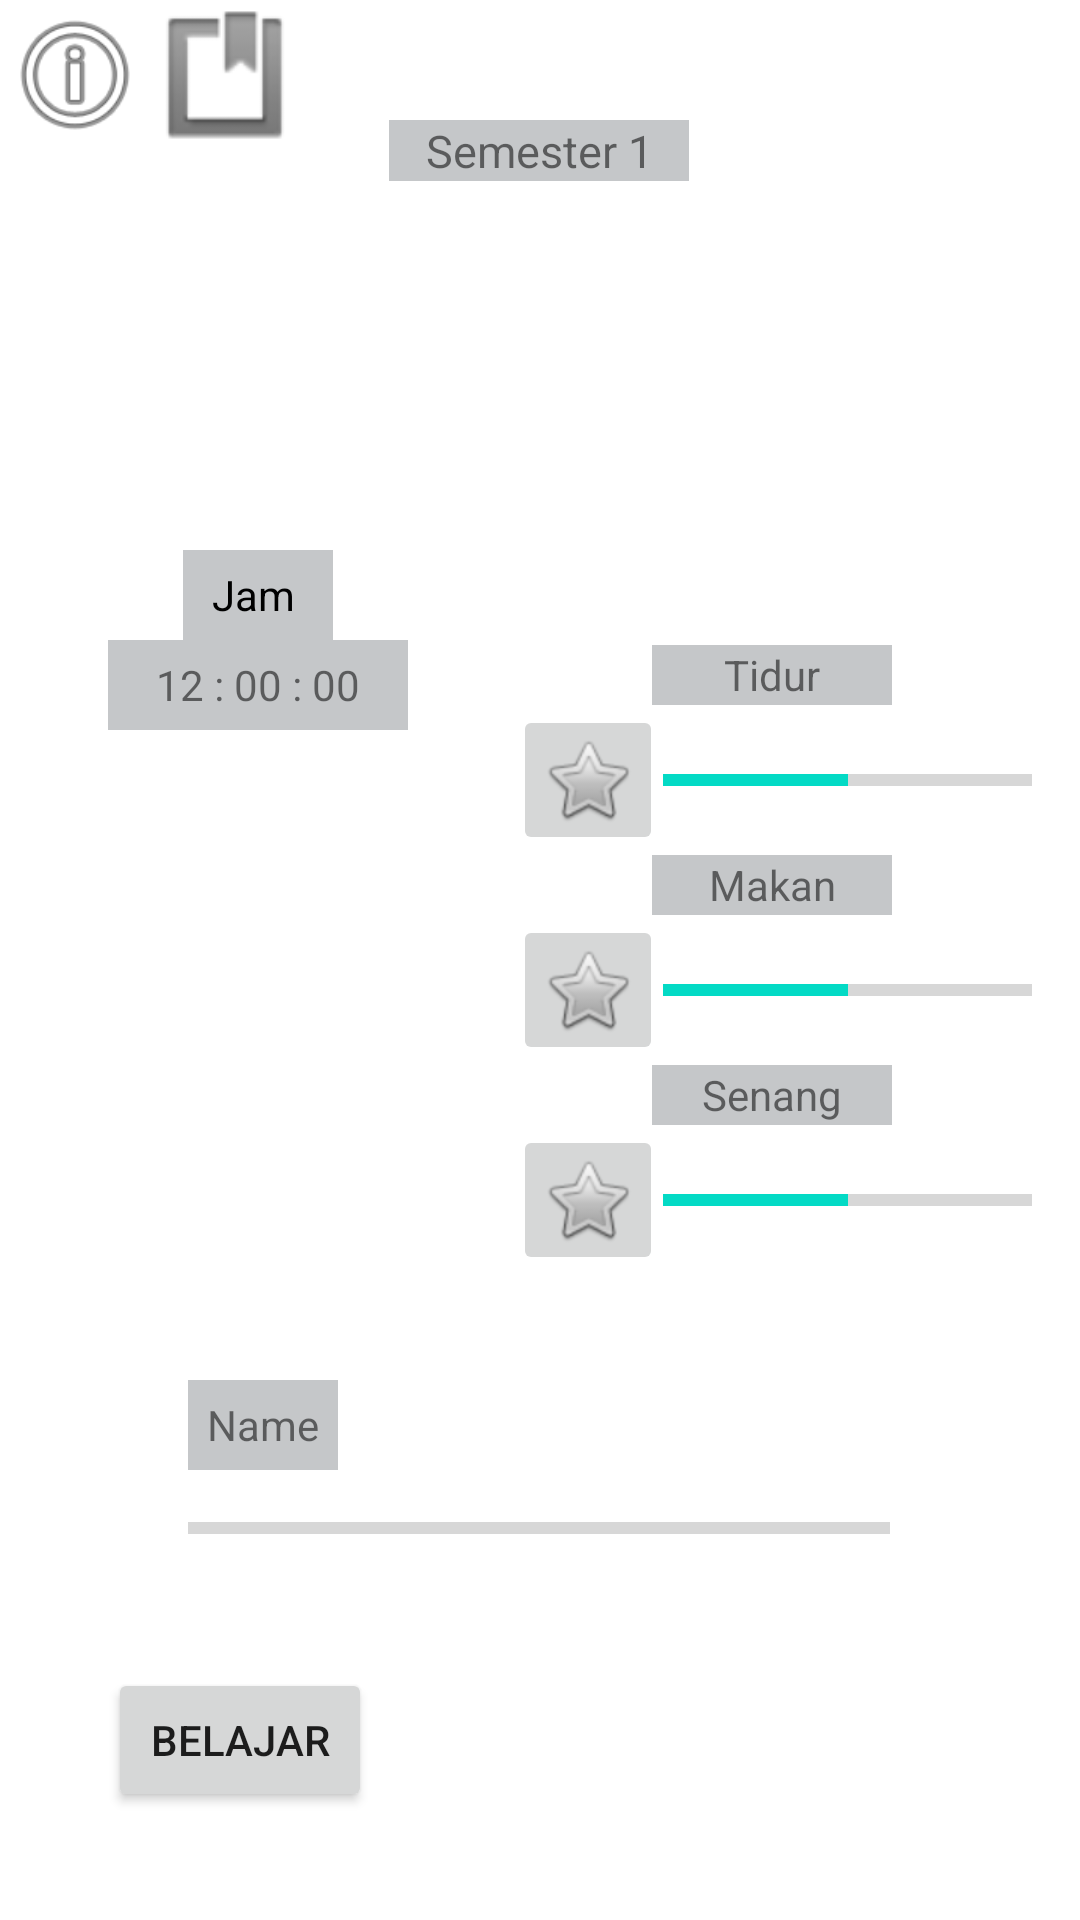

Icons on this 1080×1920 Android screen, each with its box as (x1, y1, x2, y2):
info details: (21, 21, 129, 129)
star: (525, 723, 651, 837), (525, 933, 651, 1047), (525, 1143, 651, 1257)
